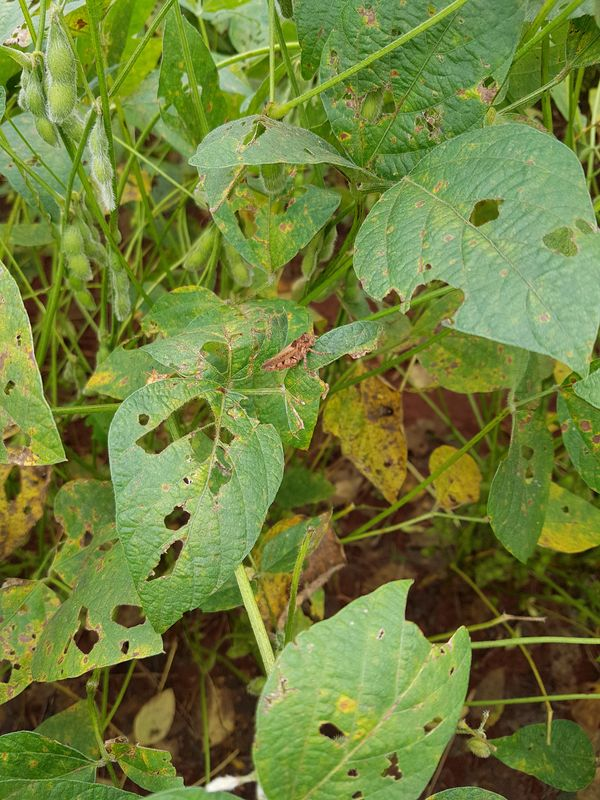Rhammatocerus_schistocercoides: (255, 320, 339, 392)
